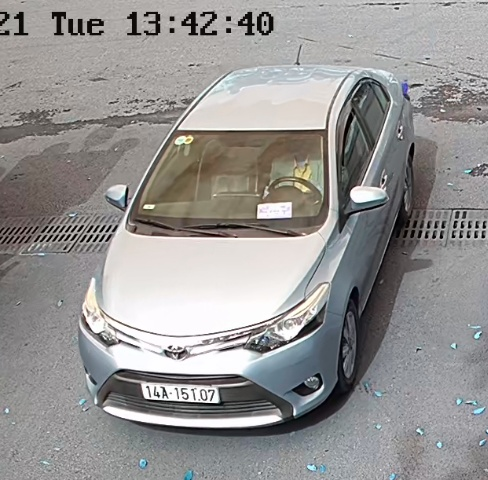vehicle plate: (136, 374, 221, 406)
